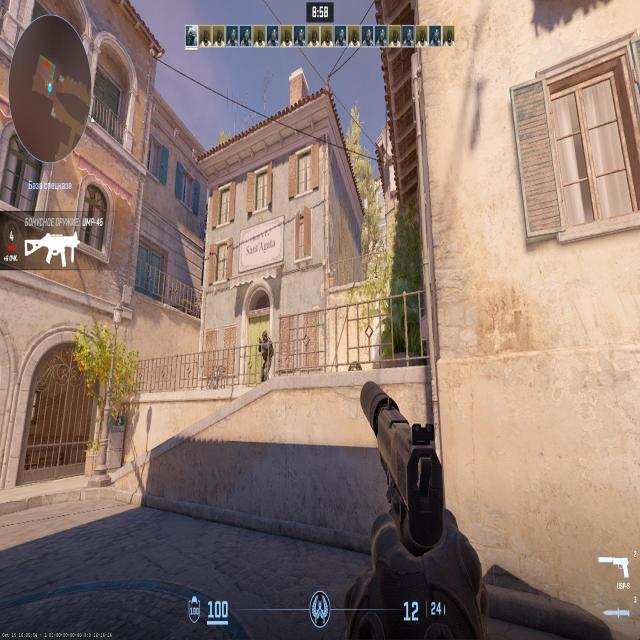CT: (259, 328, 271, 381)
CT_heat: (261, 334, 268, 344)
